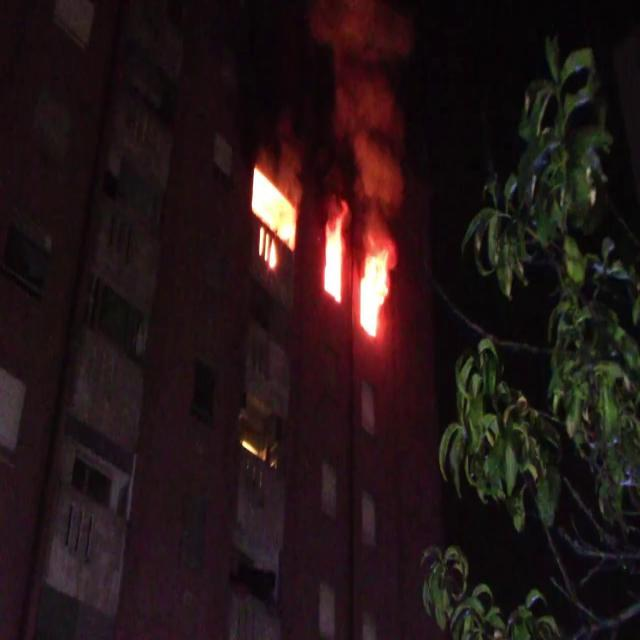Fire: (245, 154, 301, 273), (354, 238, 396, 346), (321, 206, 346, 310)
